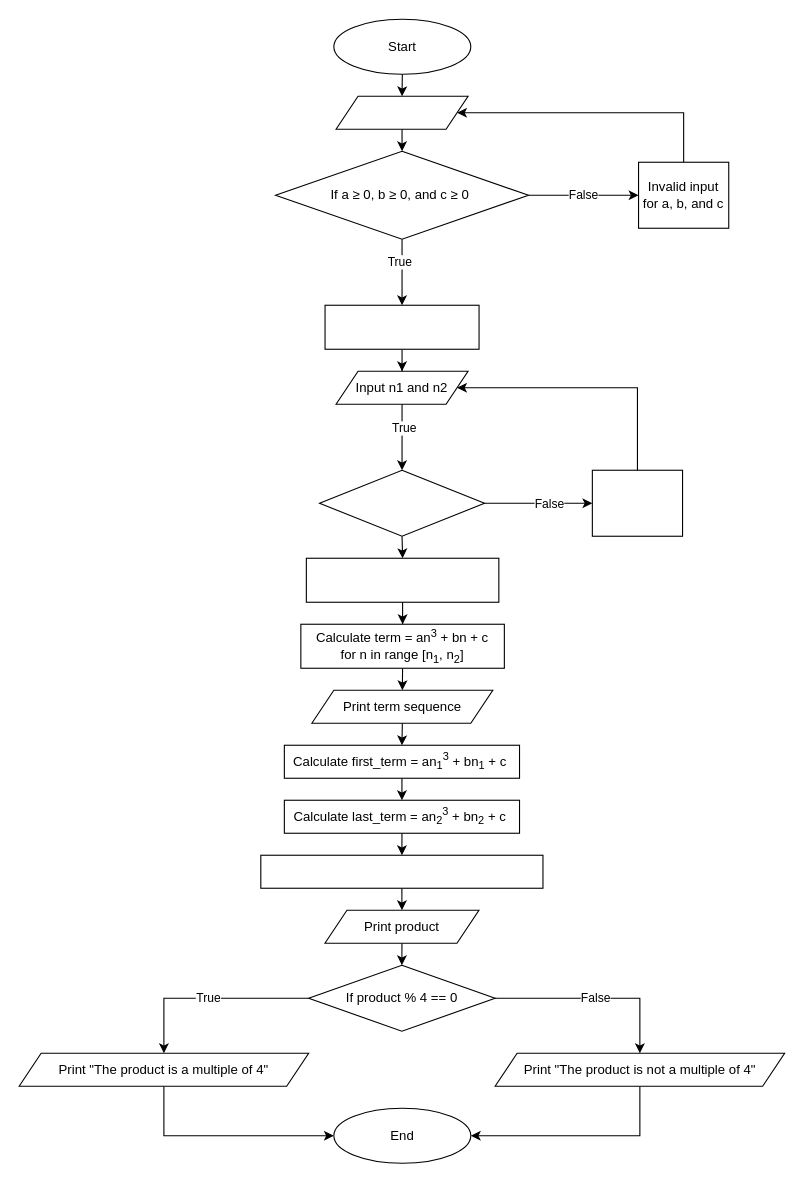
This 804x1183 diagram has some shape labels left out. The shapes that lost their labels are listed below. From the top down, each one's centre as x and y in pixels, then its label:
At (401,112): "Input a, b, and c".
At (401,326): "Valid non-negative integers for a, b, and c".
At (401,502): "If n 1 ≤ 1 ≤ n 2".
At (637,502): "Invalid input for n 1 and n 2".
At (402,579): "Valid natural numbers in sequence for n 1 and n 2".
At (401,871): "Calculate product = first_term ﹡ last_term".
